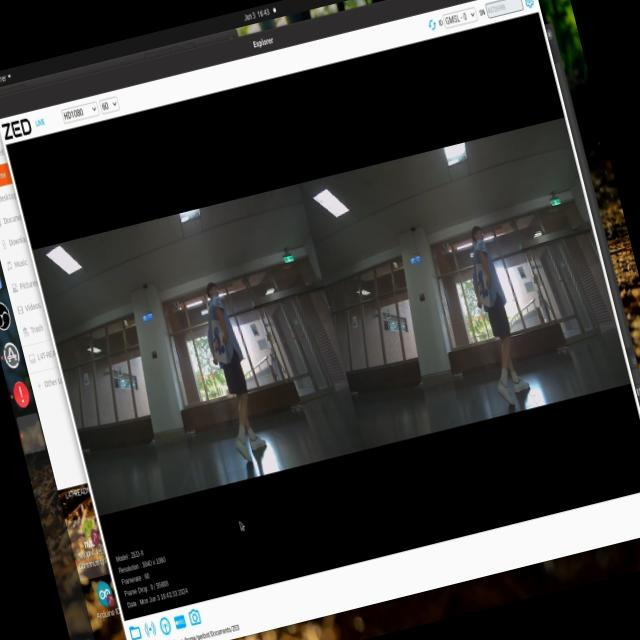blue: (202, 318, 231, 356), (470, 271, 496, 307)
